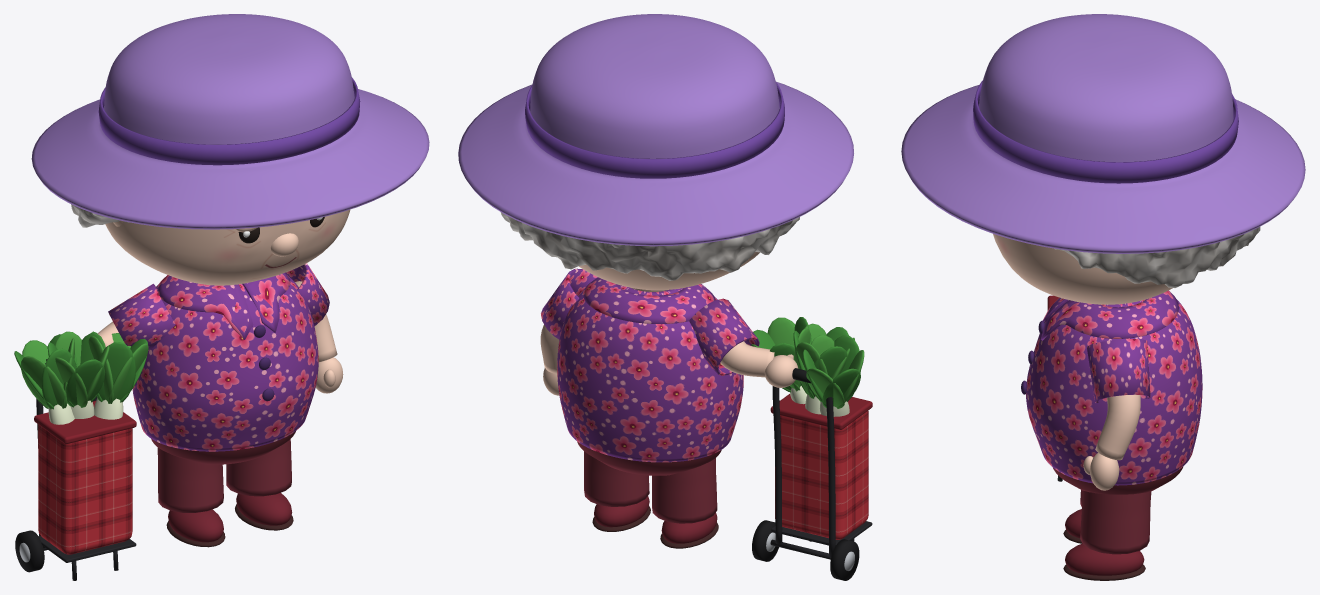
The model's file is grandma.glb.
3 views of the same model, side by side, from view 1: azimuth 30°, elevation 25°; view 2: azimuth 150°, elevation 25°; view 3: azimuth 270°, elevation 25° (orthographic). The views are drawn at different scales.
Visible parts, largest first — view 1: Hat, Shirt, Bag, Head, HatBand, Collar, Leg.R, Sleeve.R, Leg.L, BagRim, Hips, Shoe.L (+14 smaller); view 2: Hat, Shirt, Bag, Hair, HatBand, Collar, Leg.R, Sleeve.R, Leg.L, TrolleyFrame, Head, Sleeve.L (+14 smaller); view 3: Hat, Shirt, HatBand, Head, Hair, Collar, Leg.L, Sleeve.L, Arm.L, Shoe.L, Hips, Hand.L.
Part boxes in pixels (x1=…): Hat: x1=31, y1=14, x2=429, y2=229; Shirt: x1=132, y1=277, x2=318, y2=451; Bag: x1=38, y1=424, x2=132, y2=554; Head: x1=105, y1=209, x2=350, y2=285; HatBand: x1=98, y1=77, x2=360, y2=165; Collar: x1=157, y1=273, x2=290, y2=339; Leg.R: x1=157, y1=447, x2=223, y2=512; Sleeve.R: x1=108, y1=283, x2=175, y2=350; Leg.L: x1=226, y1=439, x2=291, y2=496; BagRim: x1=34, y1=401, x2=136, y2=444; Hips: x1=151, y1=431, x2=295, y2=464; Shoe.L: x1=236, y1=492, x2=292, y2=525; Hat: x1=458, y1=14, x2=853, y2=246; Shirt: x1=557, y1=284, x2=743, y2=462; Bag: x1=775, y1=411, x2=868, y2=539; Hair: x1=500, y1=212, x2=799, y2=280; HatBand: x1=525, y1=82, x2=784, y2=178; Collar: x1=583, y1=277, x2=715, y2=324; Leg.R: x1=652, y1=458, x2=717, y2=523; Sleeve.R: x1=689, y1=298, x2=759, y2=375; Leg.L: x1=584, y1=451, x2=649, y2=506; TrolleyFrame: x1=772, y1=386, x2=835, y2=557; Head: x1=578, y1=252, x2=759, y2=290; Sleeve.L: x1=541, y1=268, x2=597, y2=339; Hat: x1=901, y1=14, x2=1305, y2=253; Shirt: x1=1026, y1=298, x2=1202, y2=485; HatBand: x1=973, y1=80, x2=1238, y2=183; Head: x1=993, y1=234, x2=1172, y2=304; Hair: x1=1054, y1=227, x2=1260, y2=287; Collar: x1=1040, y1=290, x2=1178, y2=340; Leg.L: x1=1080, y1=490, x2=1151, y2=554; Sleeve.L: x1=1087, y1=339, x2=1150, y2=403; Arm.L: x1=1095, y1=394, x2=1140, y2=460; Shoe.L: x1=1065, y1=543, x2=1144, y2=575; Hips: x1=1053, y1=467, x2=1182, y2=494; Hand.L: x1=1090, y1=453, x2=1119, y2=490.
Bounding box in the file's own units: 1.57 × 1.91 × 1.37.
Materials: 20 (3 with a texture image).
